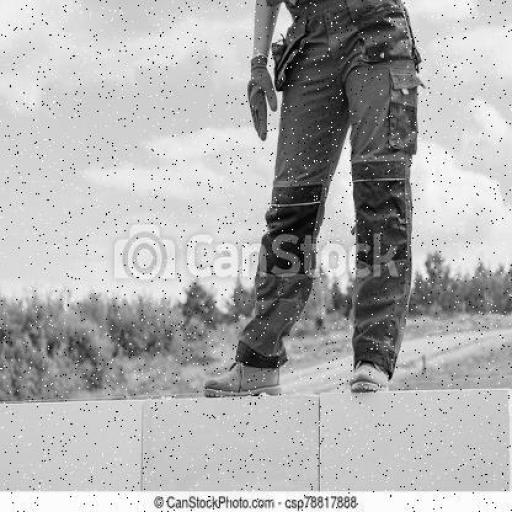safety_shoe: (203, 356, 286, 407), (350, 362, 391, 397)
